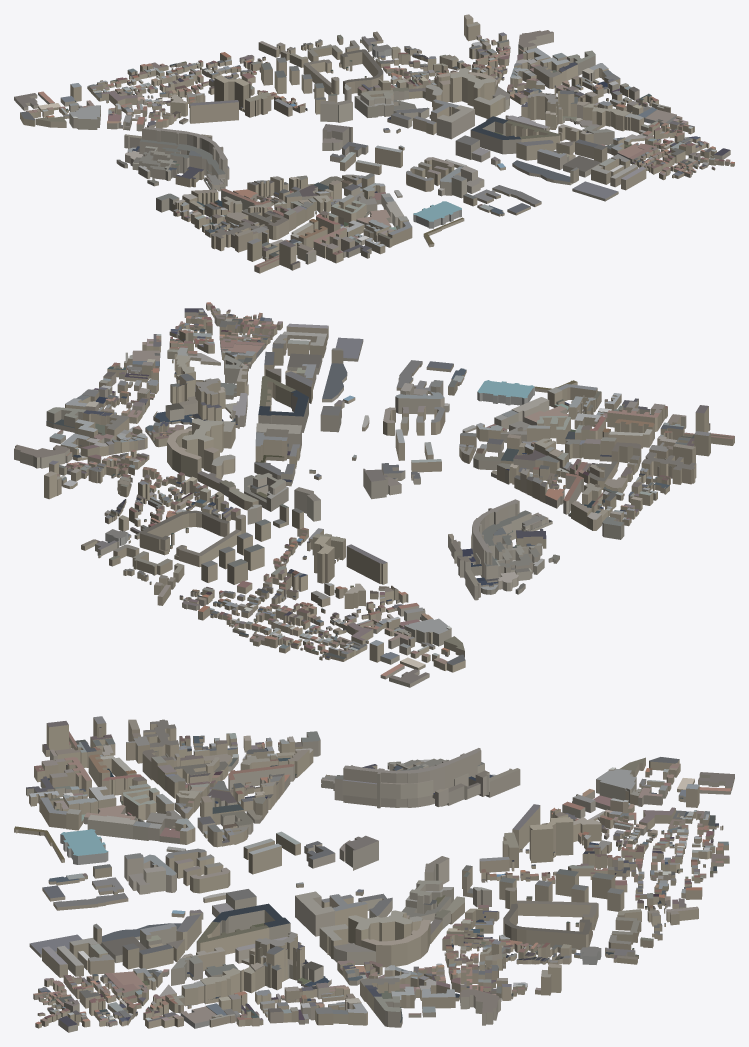
3 renders of one model, top to bottom at view 1: azimuth 30°, elevation 25°; view 2: azimuth 150°, elevation 25°; view 3: azimuth 270°, elevation 25°, orthographic. The views are drawn at different scales.
Visible parts, largest first — view 1: tuile; view 2: tuile; view 3: tuile.
Part boxes in pixels (<box>): tuile: <box>14,14,734,273</box>; tuile: <box>14,302,734,687</box>; tuile: <box>14,716,734,1032</box>.
Size of the model in its own units: 1039 by 99.23 by 1052.
